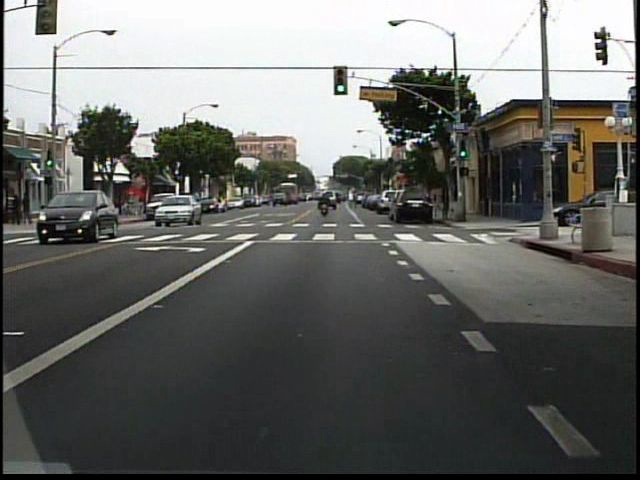person: (13, 193, 26, 226), (24, 190, 36, 225), (317, 188, 330, 217)
